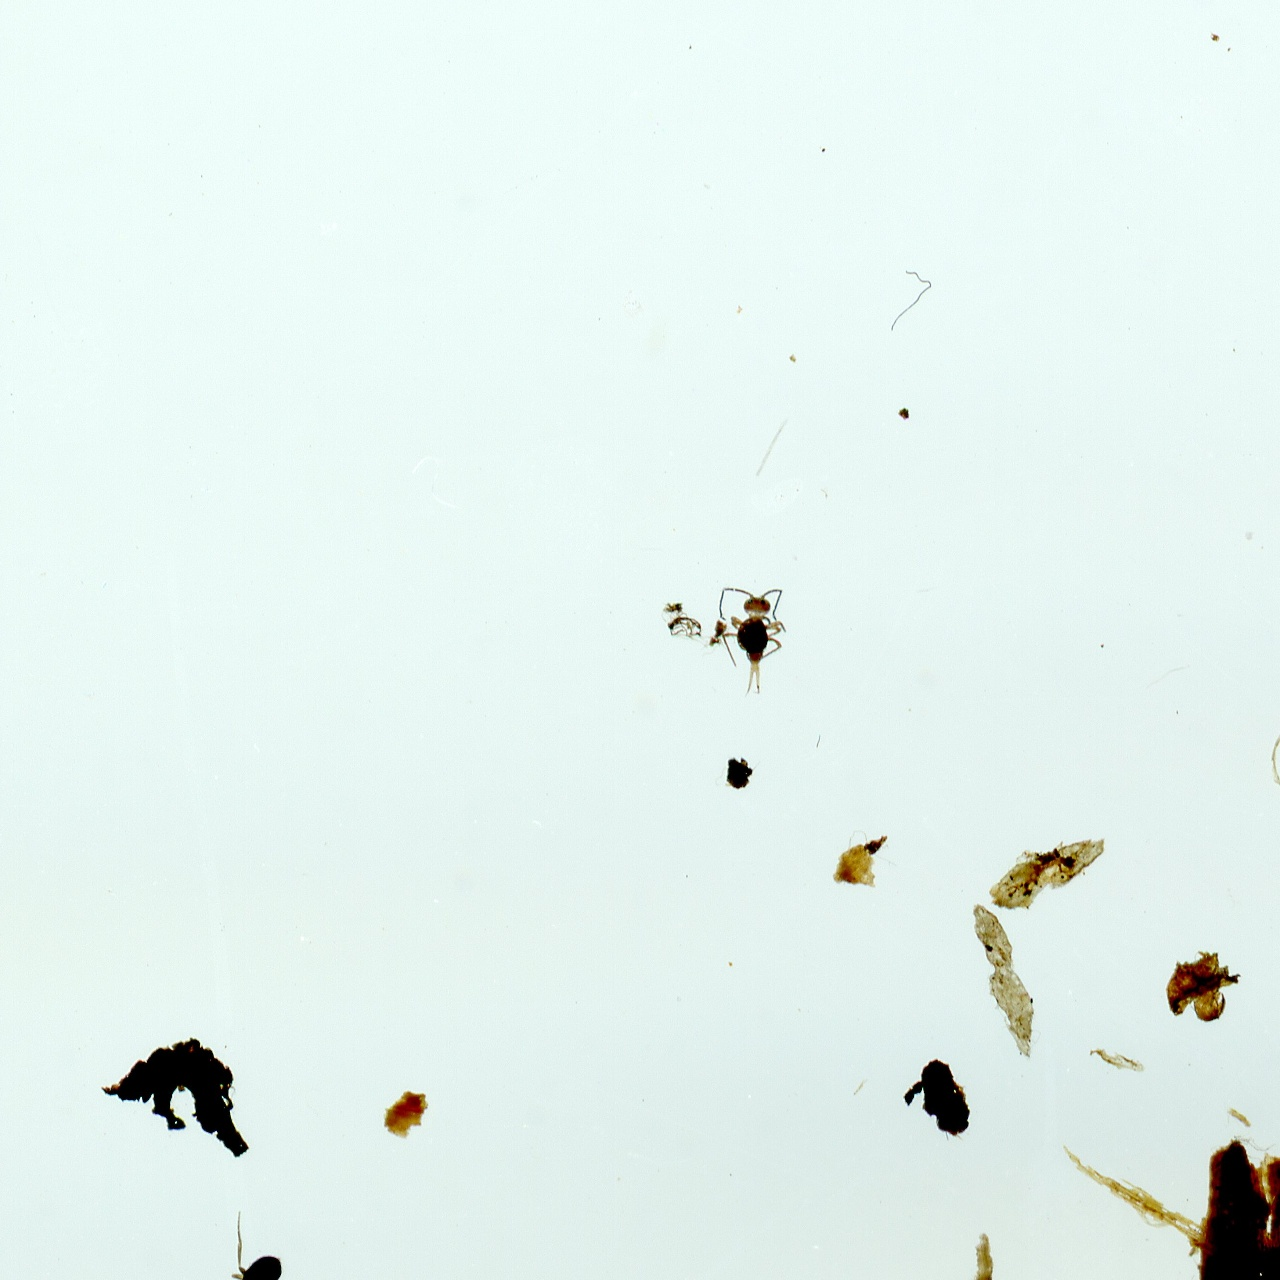arthropod: (702, 570, 798, 699), (216, 1200, 332, 1280)
